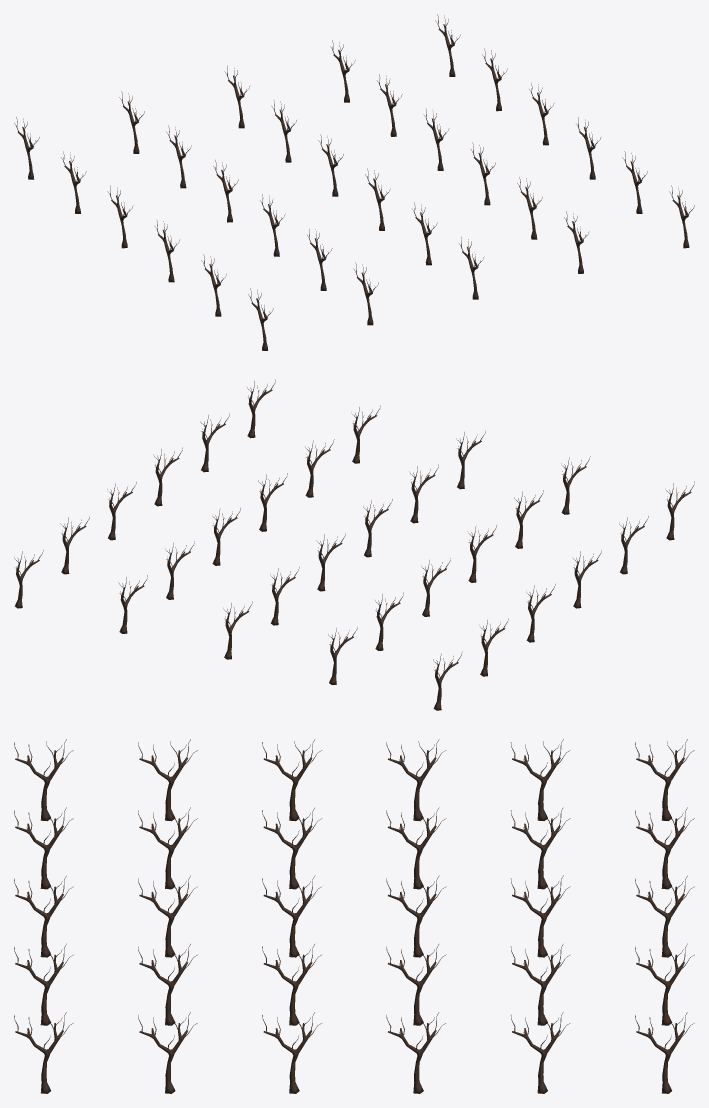
The model's file is Y2Winter.fbx.
3 renders of one model, top to bottom at view 1: azimuth 30°, elevation 25°; view 2: azimuth 150°, elevation 25°; view 3: azimuth 270°, elevation 25°, orthographic. The views are drawn at different scales.
Visible parts, largest first — view 1: Y2Winter; view 2: Y2Winter; view 3: Y2Winter.
Part boxes in pixels (x1,y1,x2,y2): Y2Winter: (14, 14, 694, 350); Y2Winter: (14, 379, 694, 710); Y2Winter: (14, 739, 694, 1093).
Bounding box in the file's own units: 301 × 38.05 × 306.
